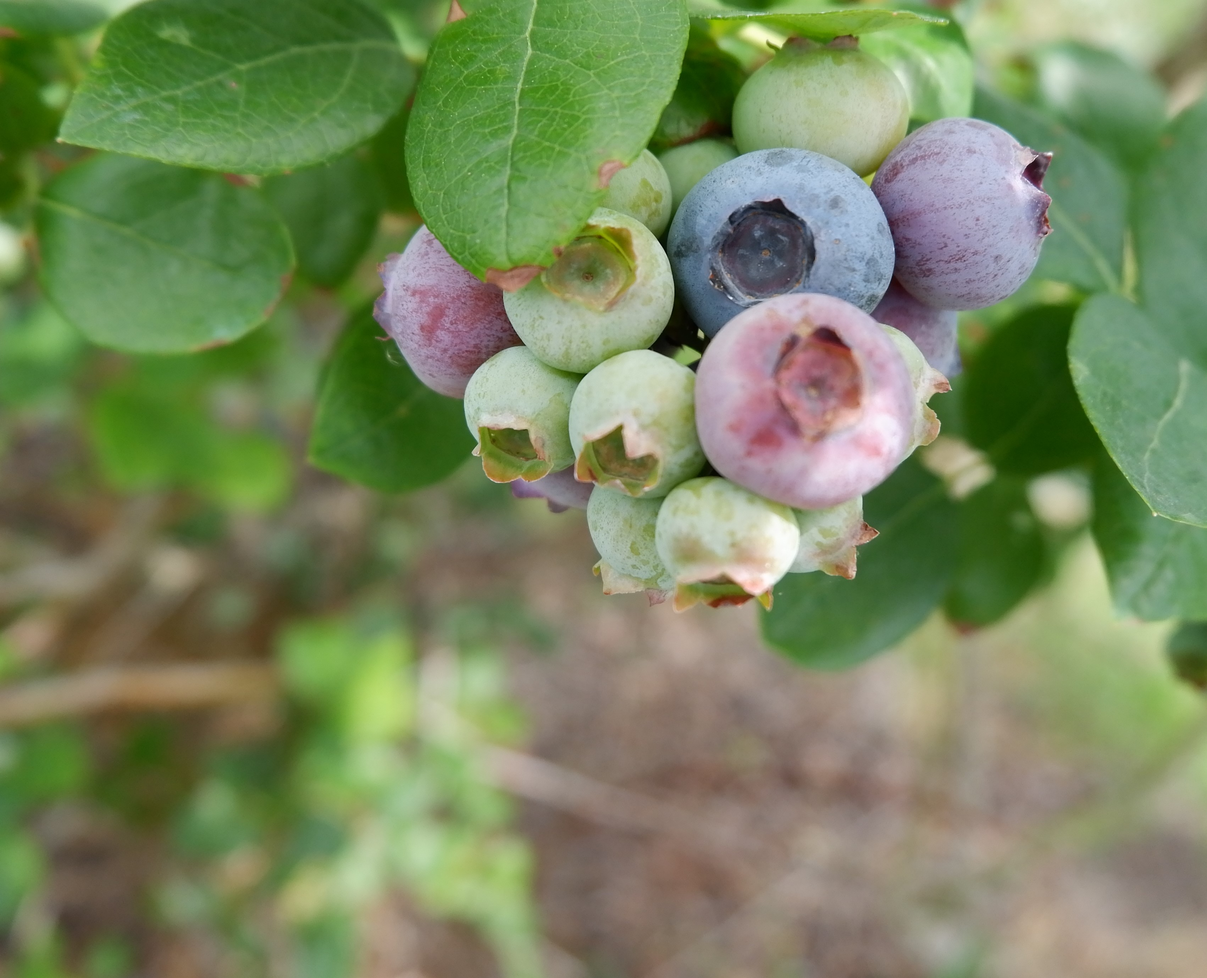Immature: (697, 300, 920, 500), (504, 217, 669, 370), (738, 37, 907, 169), (378, 229, 512, 394), (659, 479, 799, 614), (572, 350, 703, 493), (465, 348, 577, 479), (589, 485, 667, 605), (870, 275, 959, 377), (885, 323, 952, 455), (591, 151, 671, 232), (792, 497, 869, 576), (664, 142, 738, 206), (512, 460, 594, 515)
Mature: (676, 147, 894, 326), (880, 121, 1048, 300)
